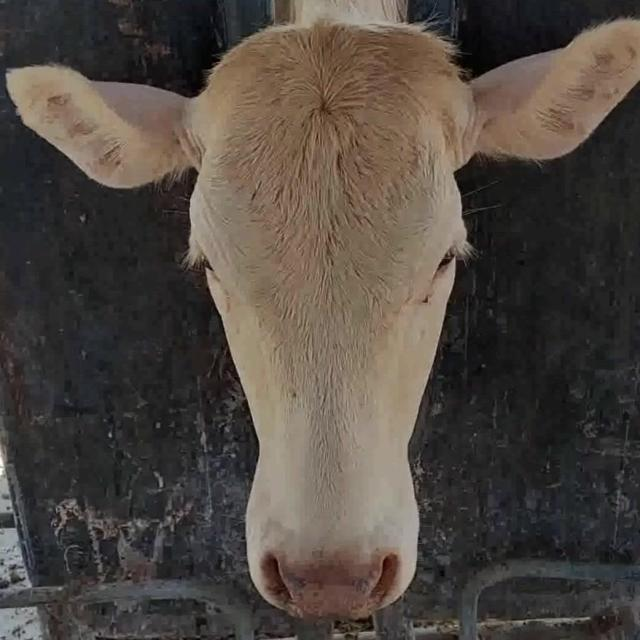cowFace: (184, 20, 468, 615)
